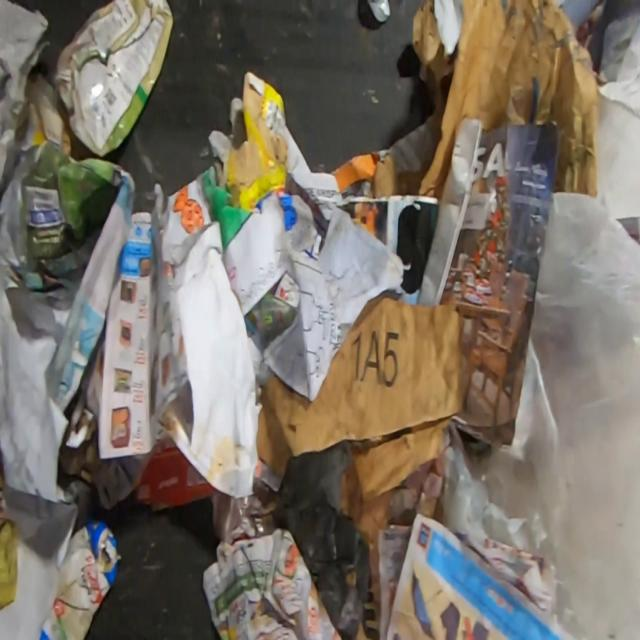cardboard: (255, 293, 465, 612), (373, 0, 610, 198), (49, 0, 176, 159), (207, 70, 289, 214), (38, 515, 123, 640), (16, 62, 92, 161), (132, 438, 220, 515), (329, 151, 379, 201)
soft_plastic: (442, 192, 640, 639), (209, 434, 392, 640)
